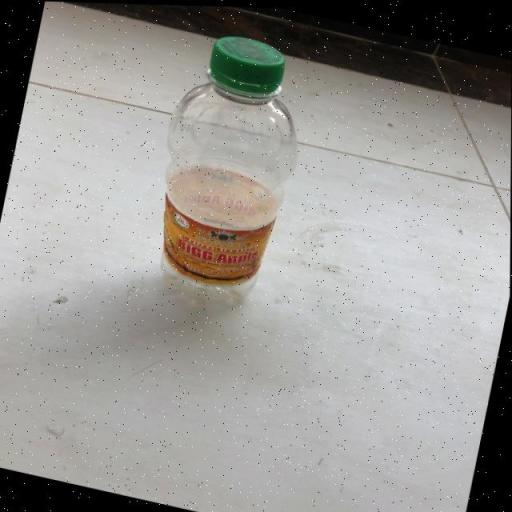plastic: (133, 20, 324, 318)
